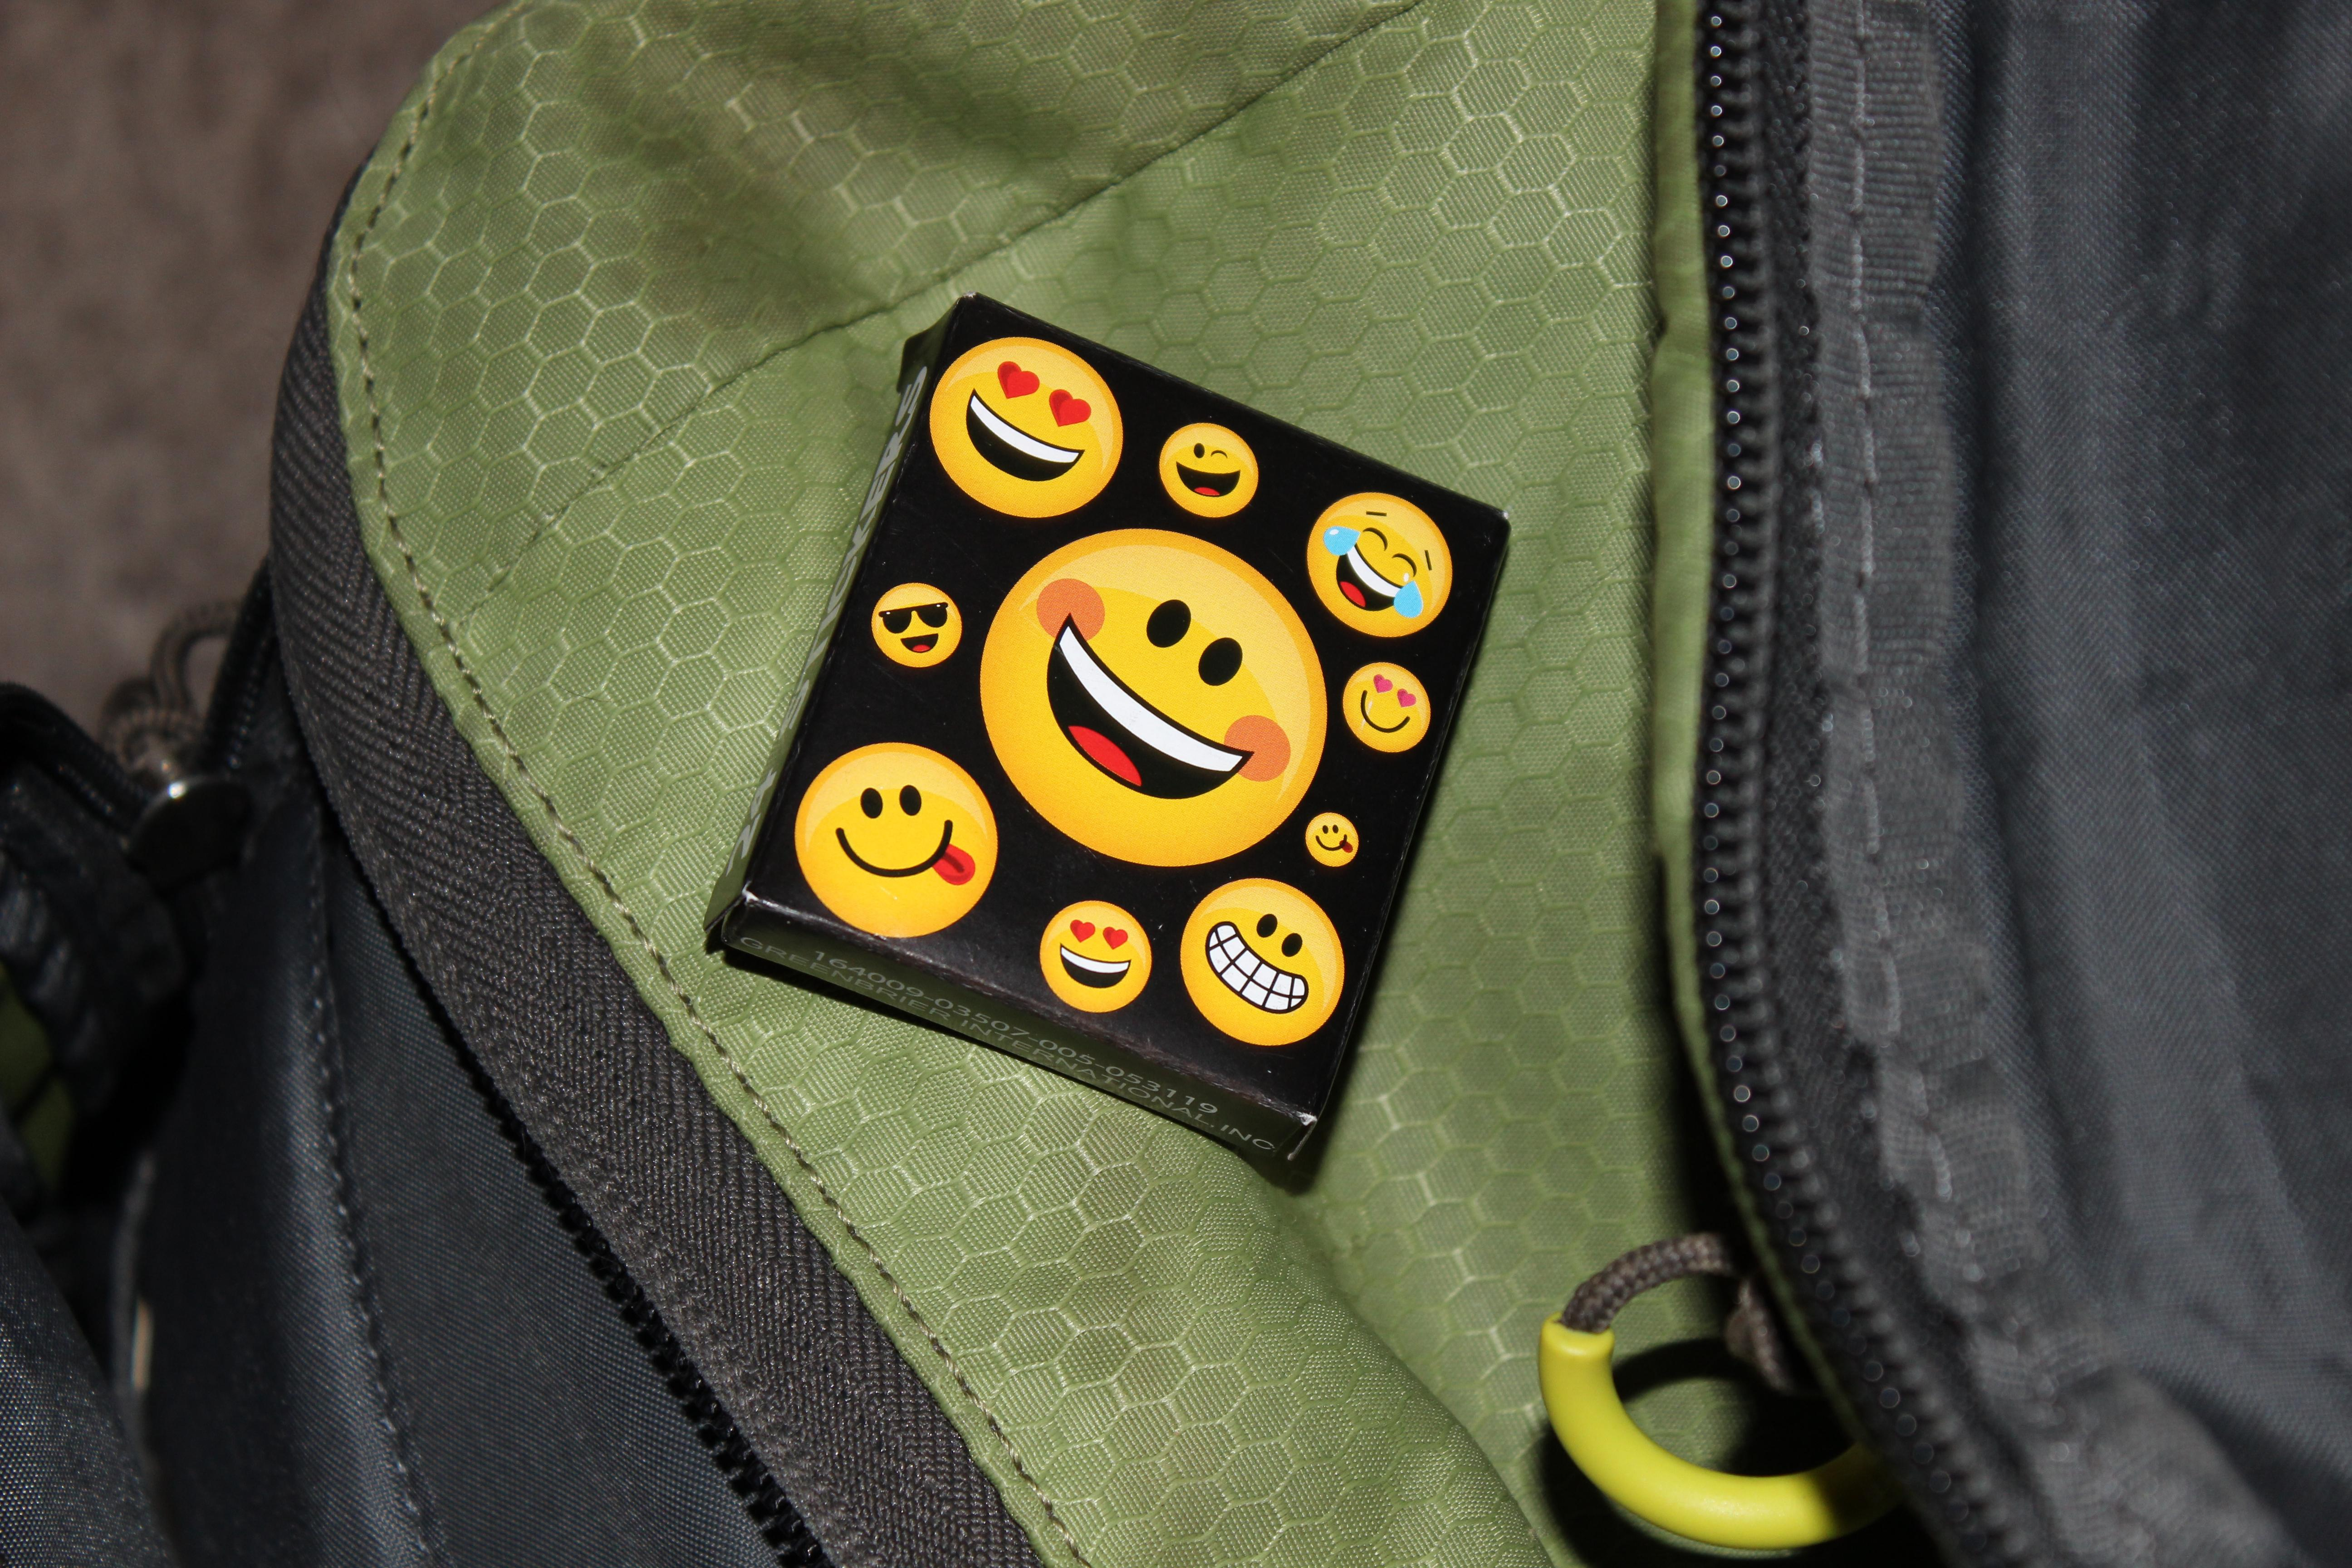stickerBox: (667, 262, 1530, 1234)
